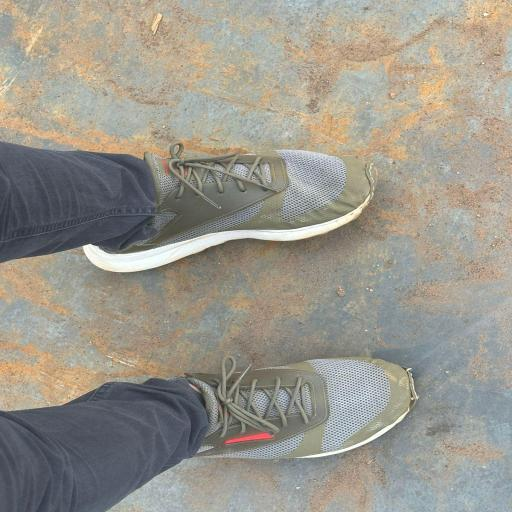not_safety_shoe: (86, 138, 368, 272), (138, 358, 431, 470)
